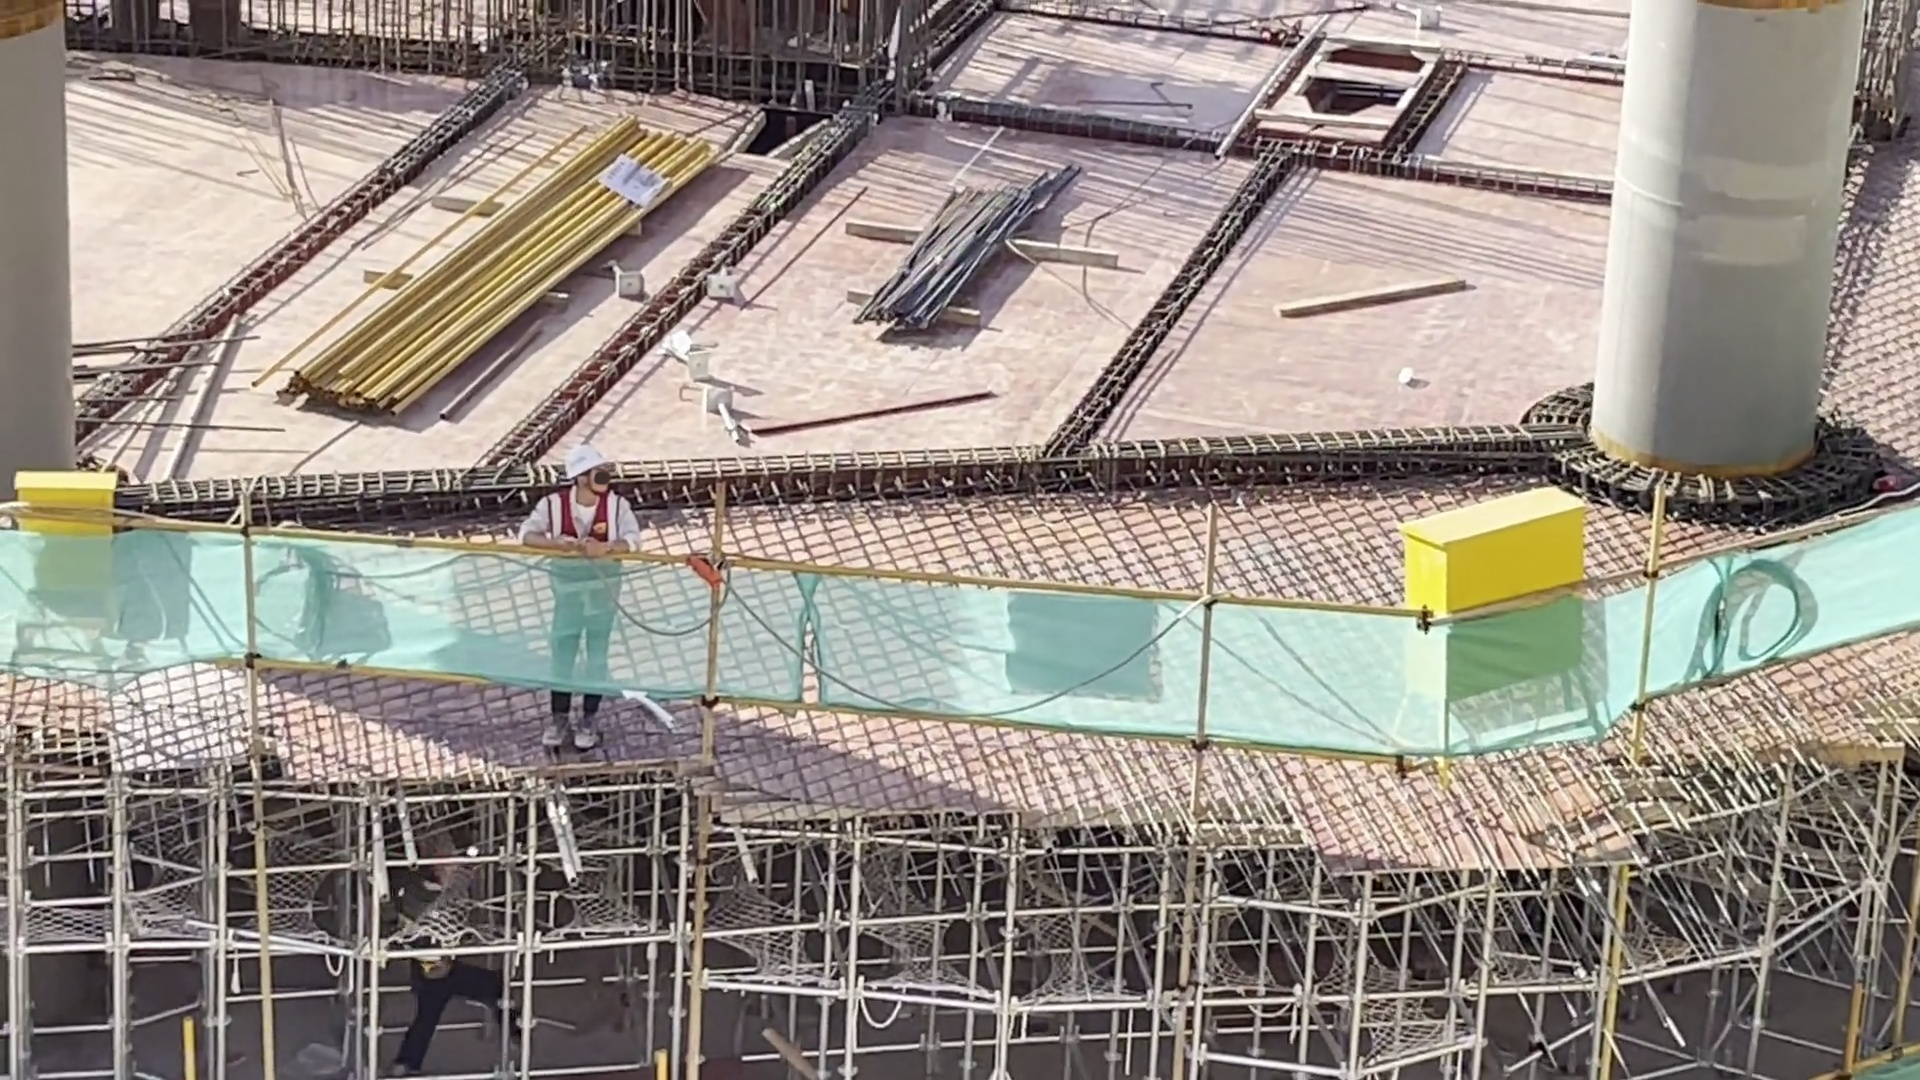ebox: (1426, 507, 1534, 669), (28, 469, 116, 634)
helmet: (548, 439, 589, 491)
person: (541, 460, 636, 758), (416, 823, 506, 1048)
rebar: (879, 176, 1063, 309)
vest: (541, 501, 601, 624), (411, 909, 464, 969)
